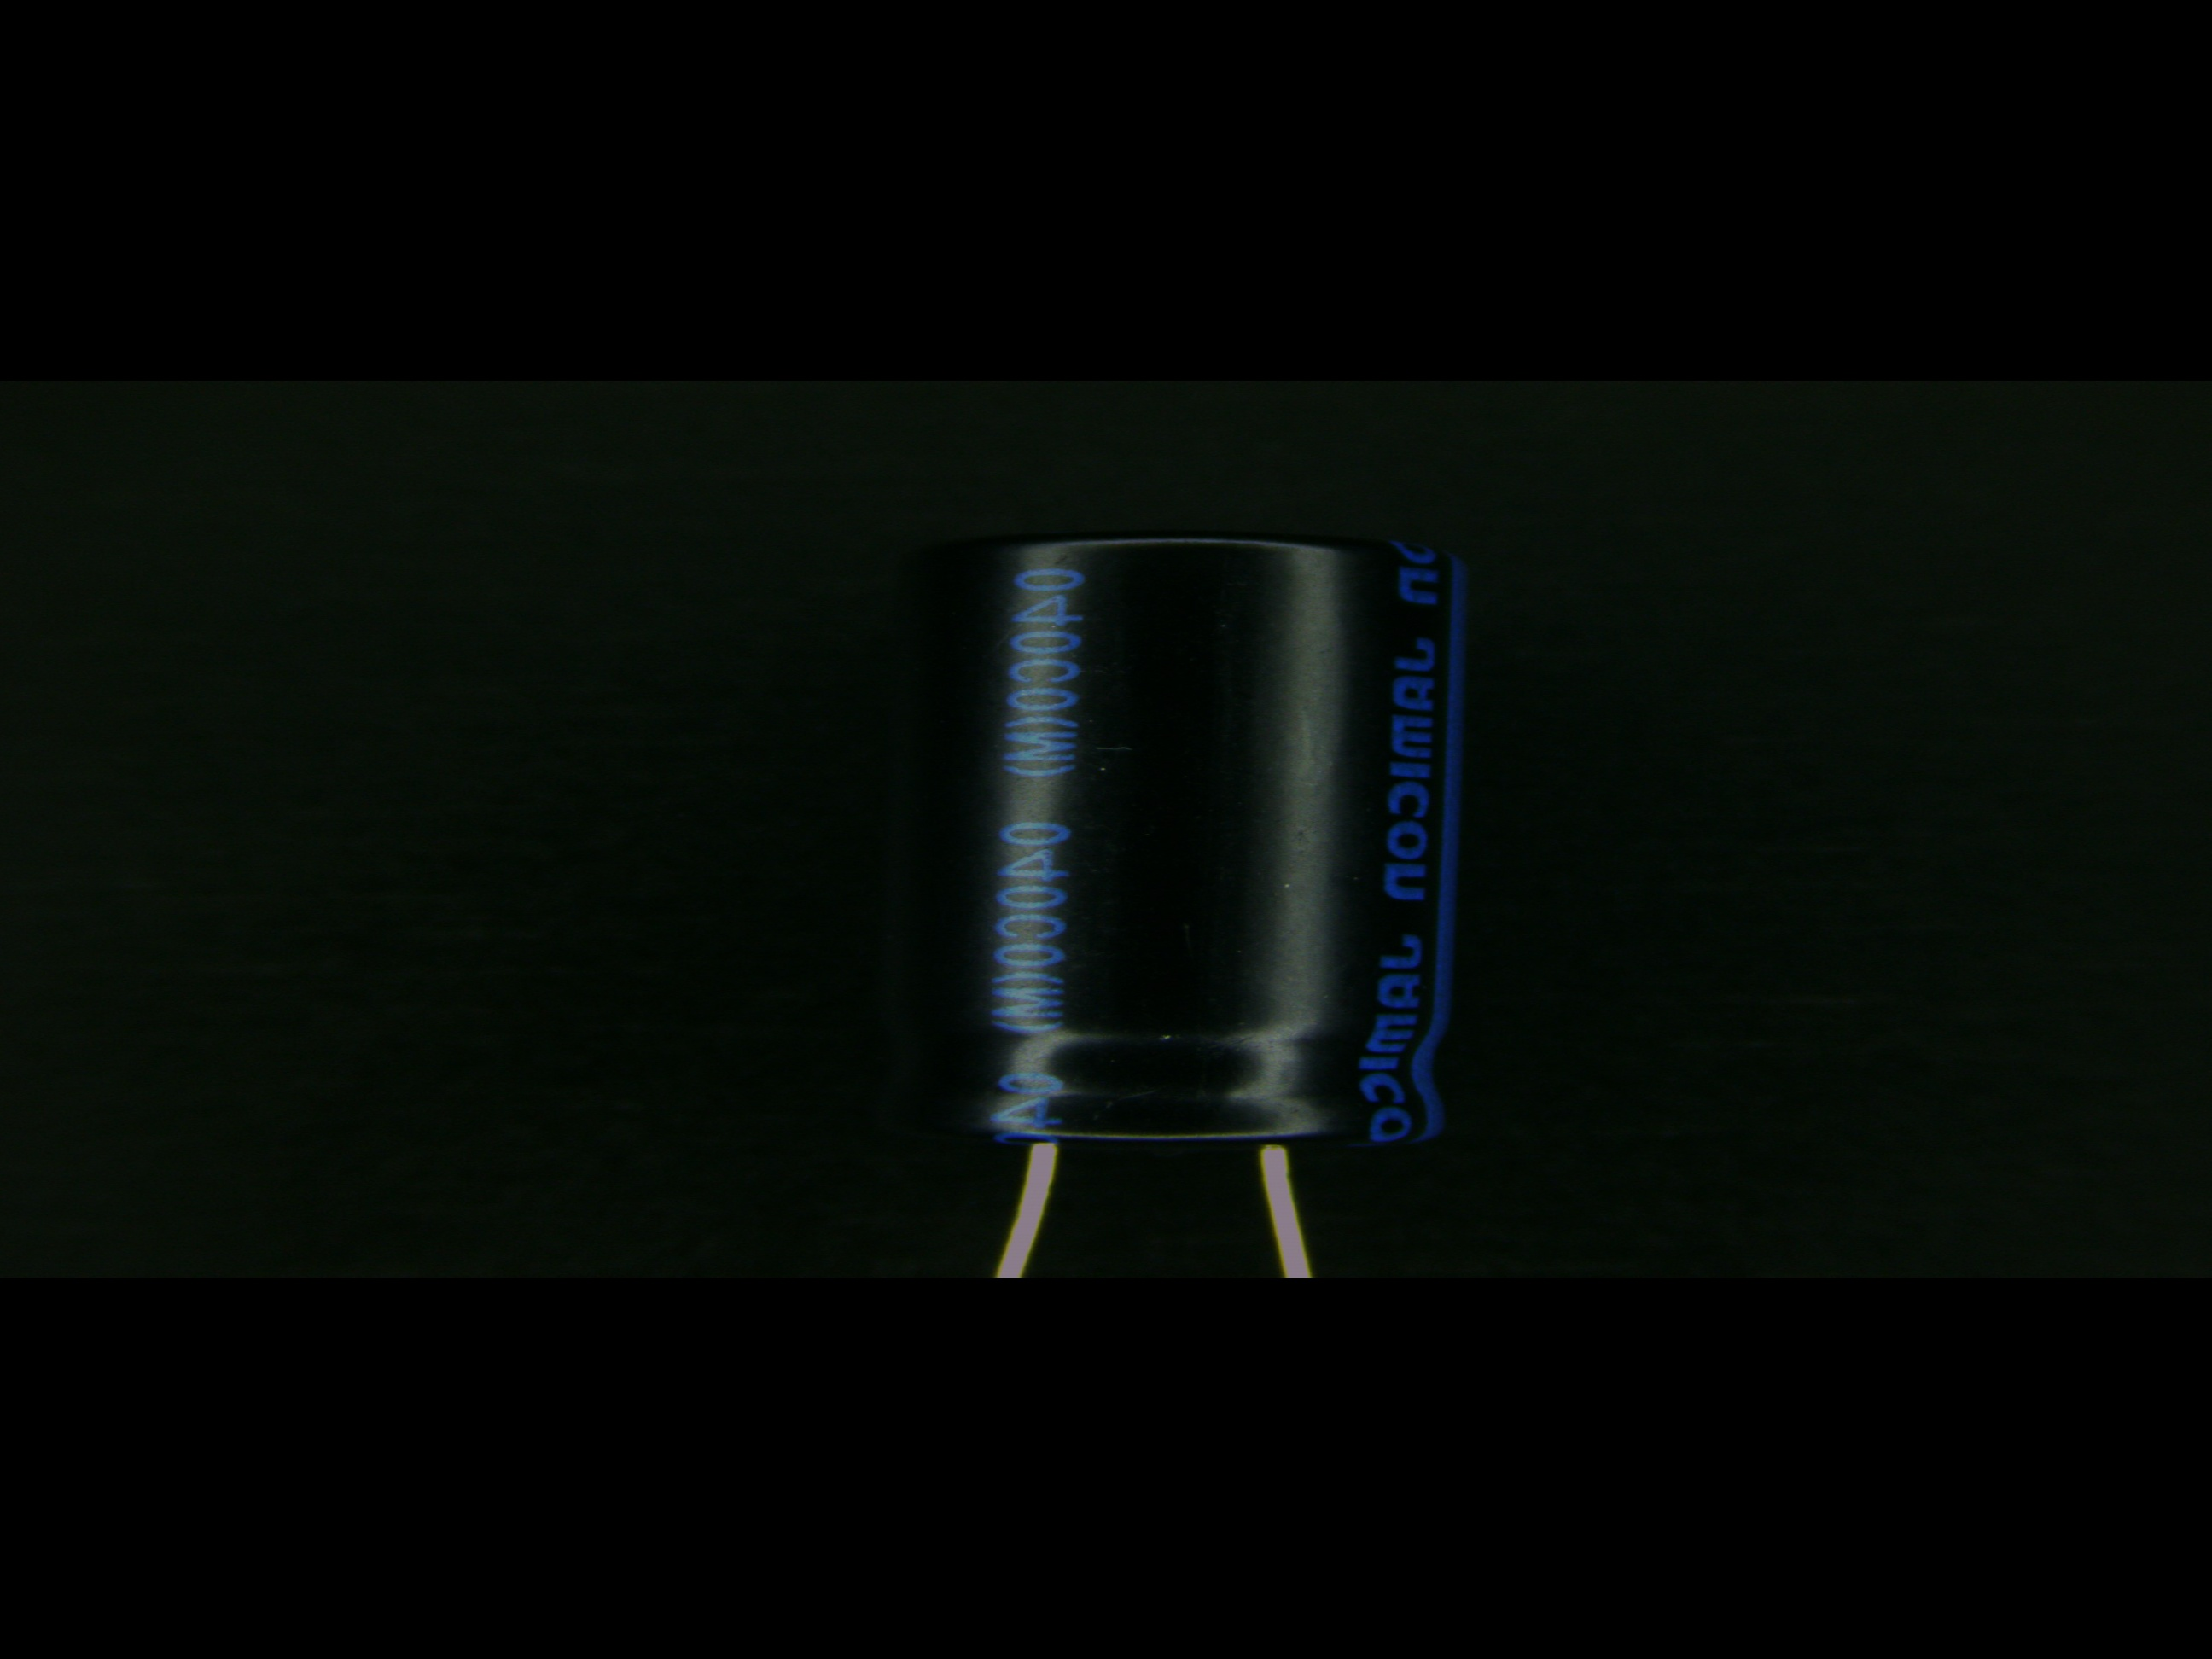c2: (873, 528, 1474, 1185)
